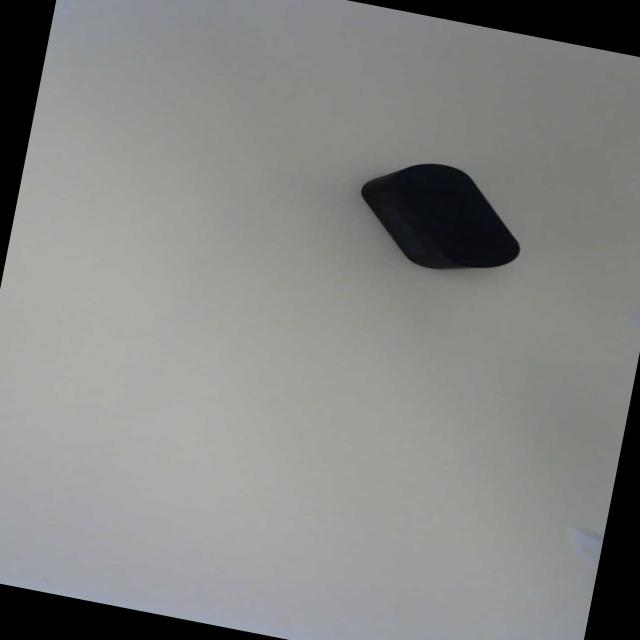oval: (377, 161, 529, 270)
